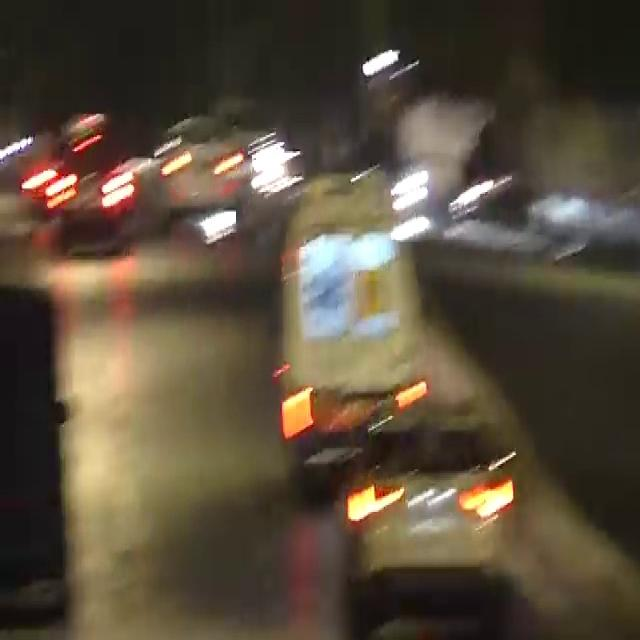ambulance: (258, 172, 420, 451)
